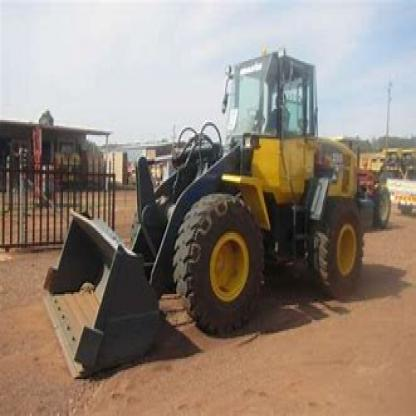bull_dozer/loader/grader: (35, 43, 375, 379)
